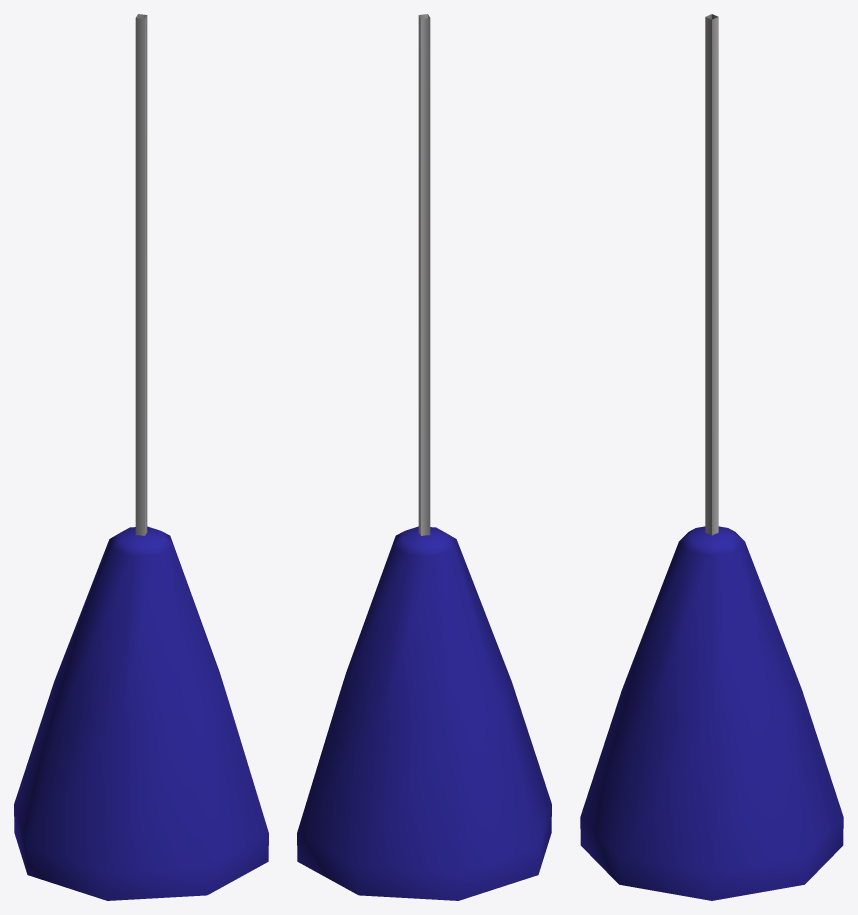
The model's file is bar_lamp.DAE.
The picture shows the model from 3 angles, left to right: view 1: azimuth 30°, elevation 25°; view 2: azimuth 150°, elevation 25°; view 3: azimuth 270°, elevation 25°; orthographic projection.
Parts seen in each view (by area): view 1: bar_lamp; view 2: bar_lamp; view 3: bar_lamp.
Boxes of the visible parts, bbox=[...] form: bar_lamp: bbox=[14, 14, 268, 900]; bar_lamp: bbox=[297, 14, 551, 900]; bar_lamp: bbox=[580, 14, 843, 900].
Size of the model in its own units: 274 by 274 by 951.
Materials: 1 (1 with a texture image).
